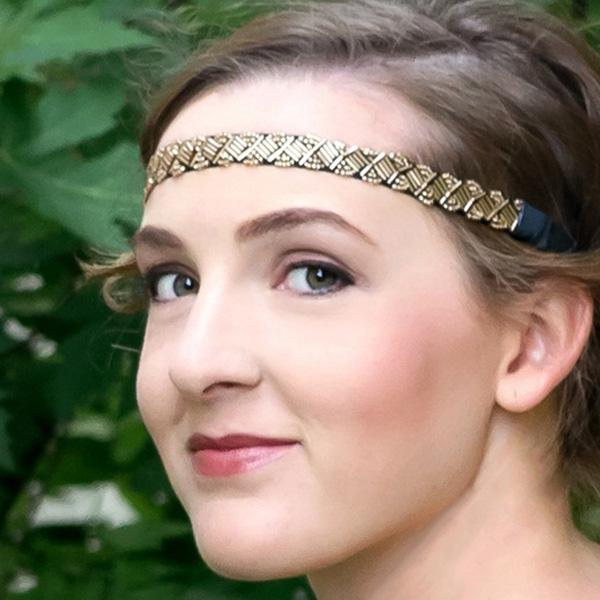Eyes: (265, 242, 362, 309), (141, 256, 205, 316)
